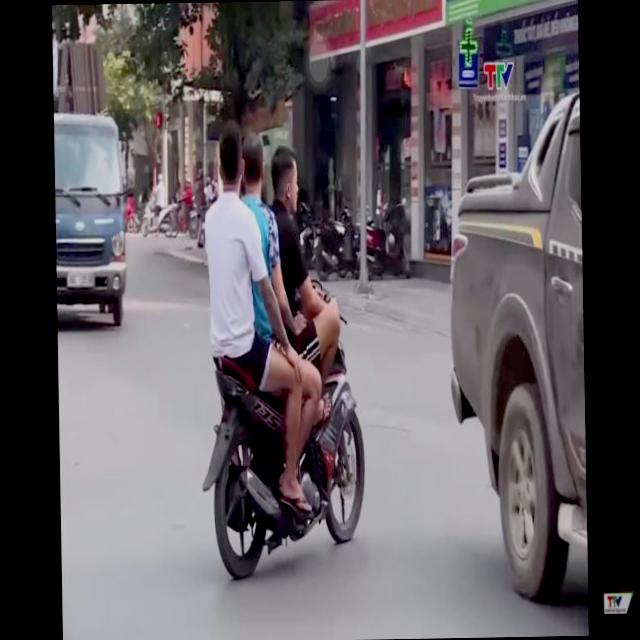motorcycle: (196, 282, 374, 586)
person: (199, 128, 259, 420), (228, 125, 280, 412), (268, 138, 322, 402)
rider_region: (196, 122, 368, 583)
